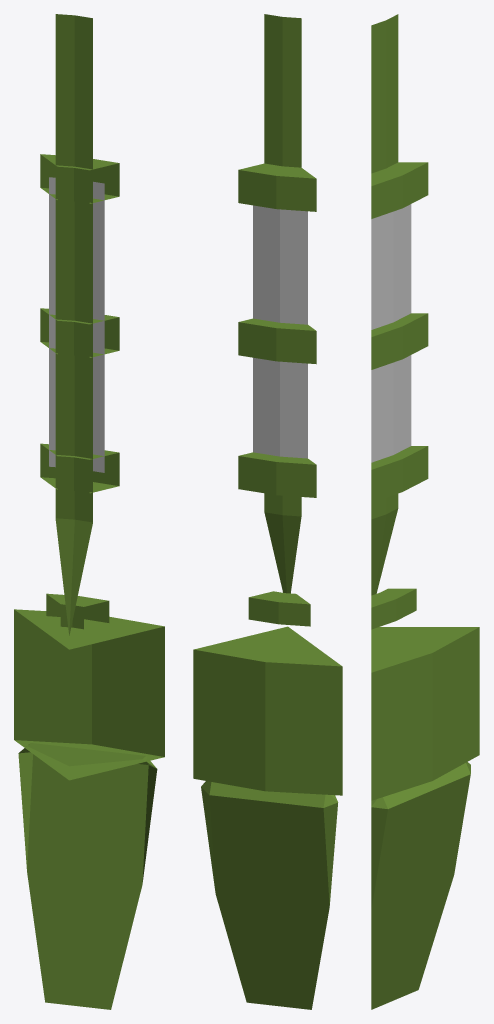
Rendered from cell_33.obj.
3 renders of one model, left to right at view 1: azimuth 30°, elevation 25°; view 2: azimuth 210°, elevation 25°; view 3: azimuth 270°, elevation 25°, orthographic. The views are drawn at different scales.
Bounding box in the file's own units: 0.1005 × 1 × 0.1005.
